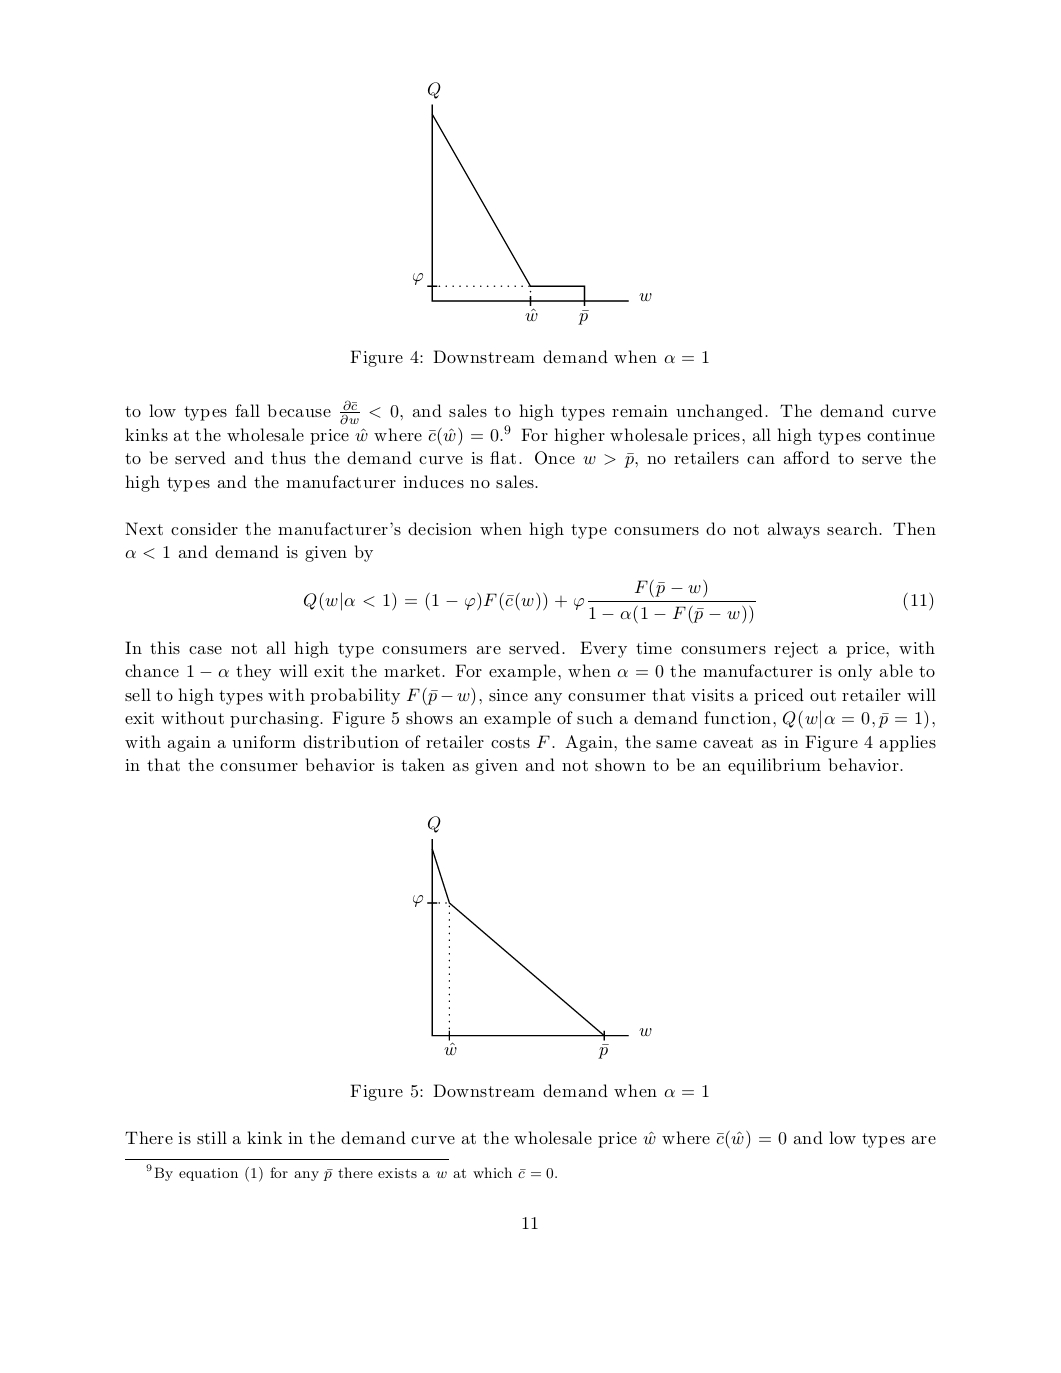figure: (413, 816, 651, 1058), (413, 82, 651, 324)
formula: (303, 578, 933, 624)
